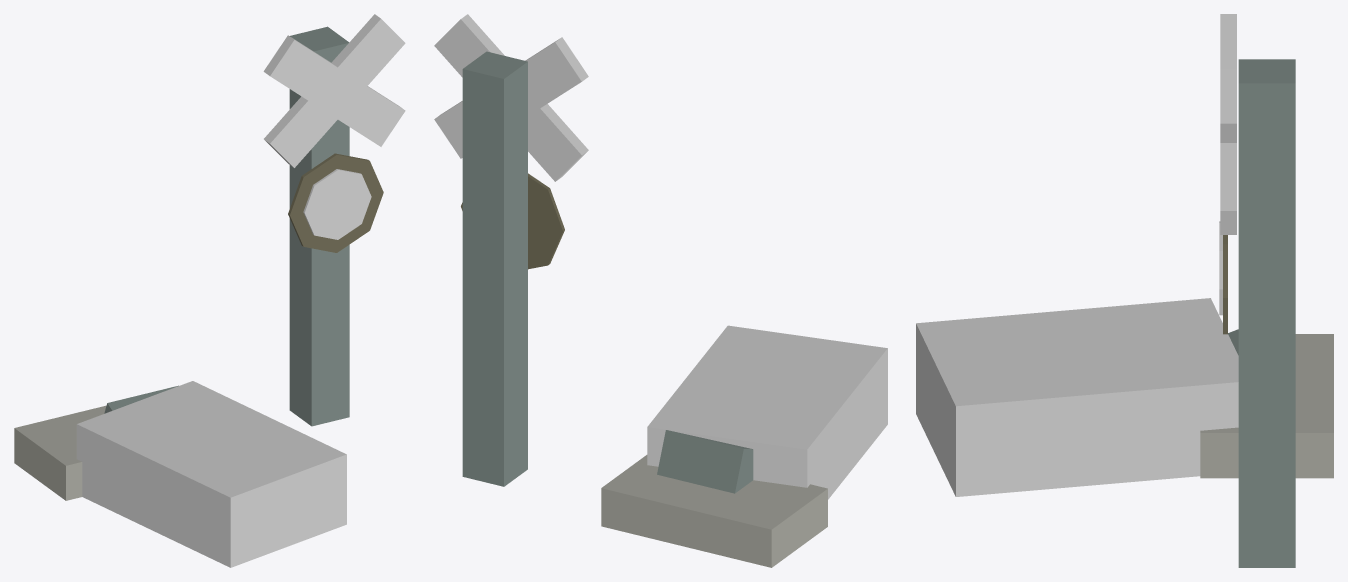
Rendered from SM_ArmarioAdif_v4_Volcado_LOD1.fbx.
3 views of the same model, side by side, from view 1: azimuth 30°, elevation 25°; view 2: azimuth 150°, elevation 25°; view 3: azimuth 270°, elevation 25° (orthographic). The views are drawn at different scales.
Parts seen in each view (by area): view 1: SM_sagunto_vivo_v14_LOD1; view 2: SM_sagunto_vivo_v14_LOD1; view 3: SM_sagunto_vivo_v14_LOD1.
Part boxes in pixels (<box>): SM_sagunto_vivo_v14_LOD1: <box>14,14,405,567</box>; SM_sagunto_vivo_v14_LOD1: <box>434,14,887,567</box>; SM_sagunto_vivo_v14_LOD1: <box>916,14,1333,567</box>.
Size of the model in its own units: 3.11 by 3.4 by 2.5.
